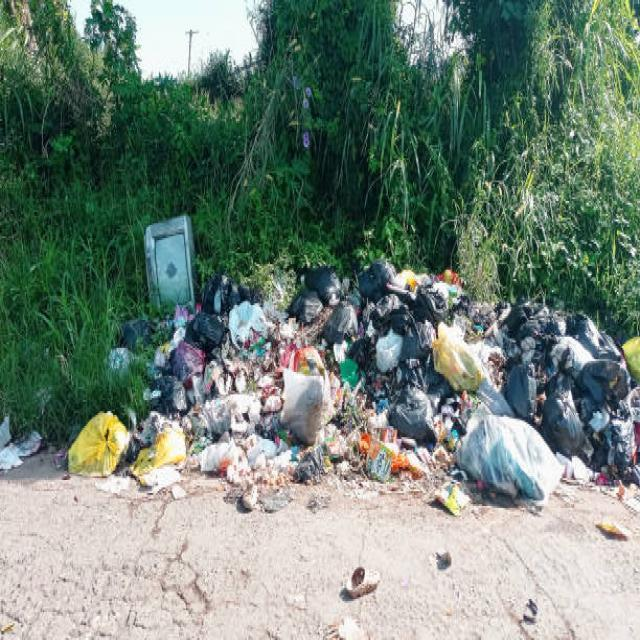garbage: (464, 408, 549, 498), (280, 372, 343, 464), (68, 400, 124, 486), (380, 302, 438, 377), (579, 341, 631, 411), (0, 408, 44, 484), (548, 381, 586, 467), (223, 296, 275, 354), (504, 349, 539, 425), (391, 380, 436, 439), (565, 308, 617, 358), (153, 412, 190, 473), (304, 258, 340, 314), (353, 250, 393, 300), (184, 303, 224, 350)
